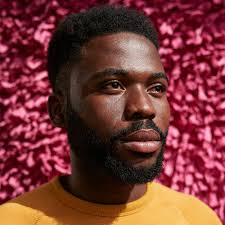b.y: (109, 119, 164, 182)
